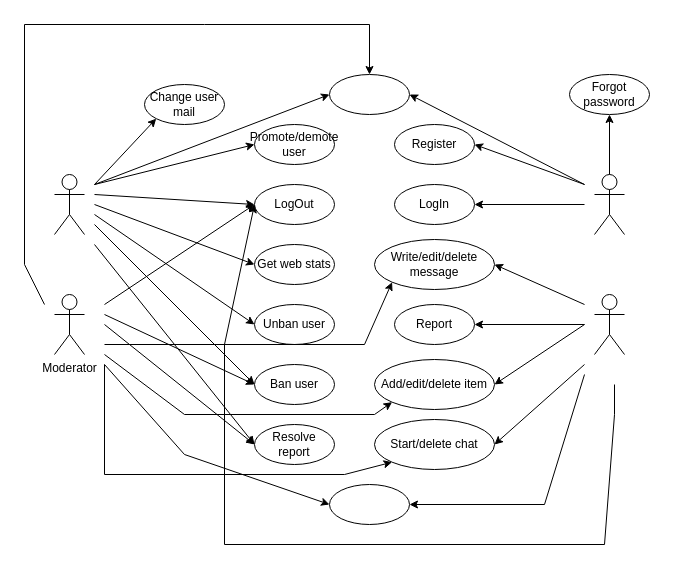
The diagram is 676 pixels wide and 570 high, and some of its shapes have lost their labels. Each missing label, with the centre of its shape:
"Admin" belongs at (69,204).
"Fill/edit profile info" belongs at (369,504).
"Unauthorized user" belongs at (609,204).
"User" belongs at (609,324).
"View items" belongs at (369,94).
